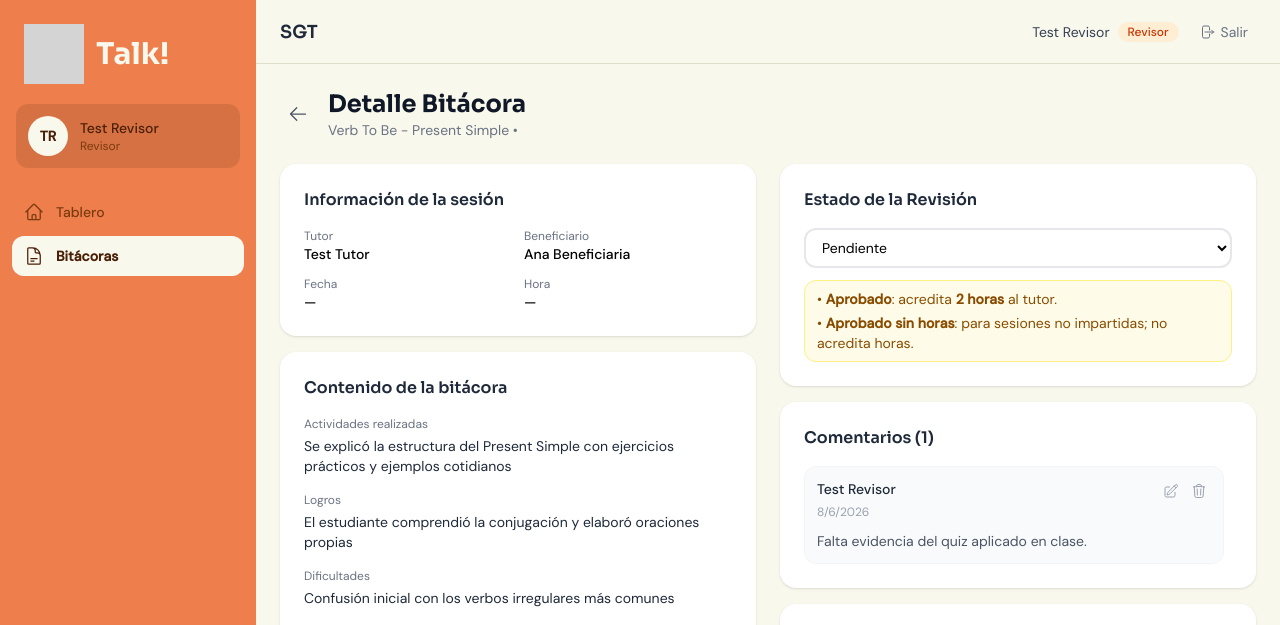
INT-02 | Bitácora rechazada — coordinador no ve horas + tutor ve comentario › Revisor rechaza bitácora y deja comentario obligatorio de motivo
Expected: the heading "Detalle Bitácora" is shown, [328,88,526,120]
Select "No aprobada" in the dropdown: (1018, 248) [804,228,1232,268]
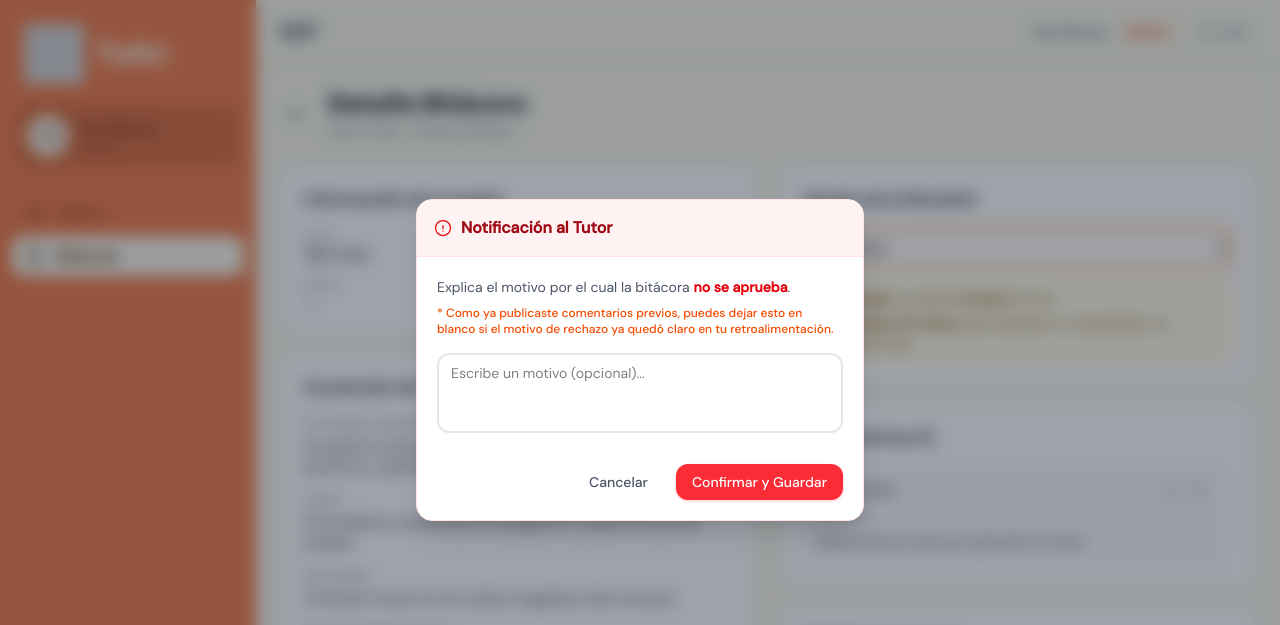
Expected: the heading "Notificación al Tutor" is shown, [461,216,612,240]
In the text box with placeholder "Escribe un motivo (opcional)...": (640, 393) [437,353,843,433], type "Falta evidencia del quiz aplicado en clase."
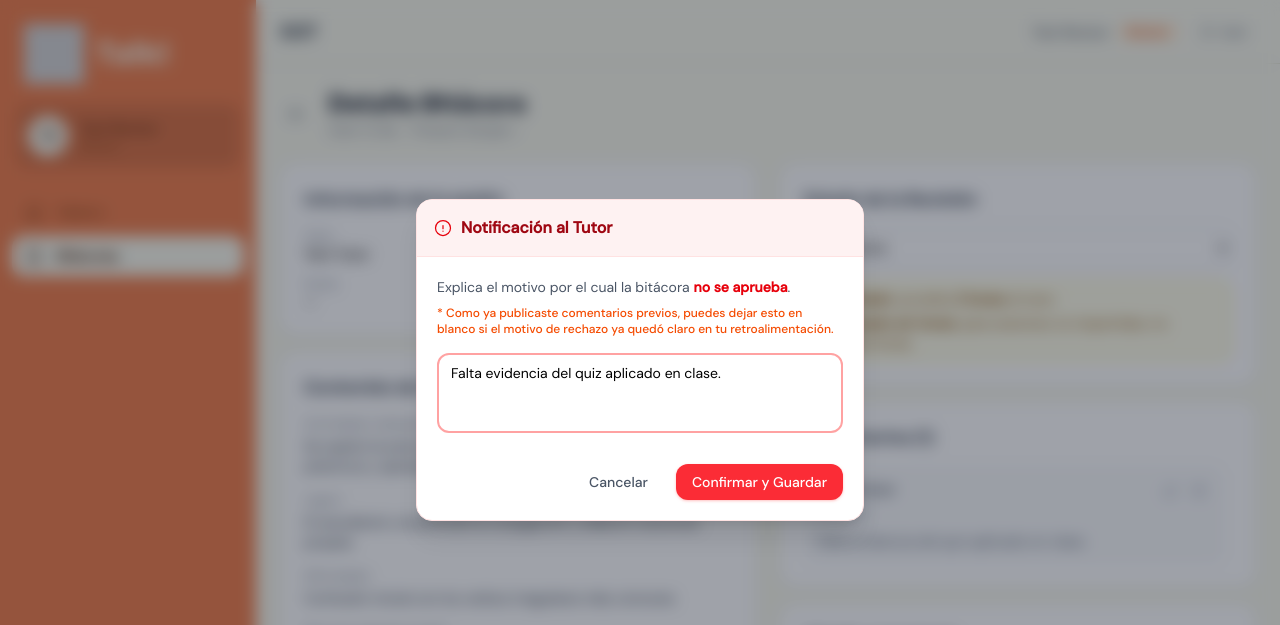
Click the button "Confirmar y Guardar": (760, 482) [676,464,843,500]
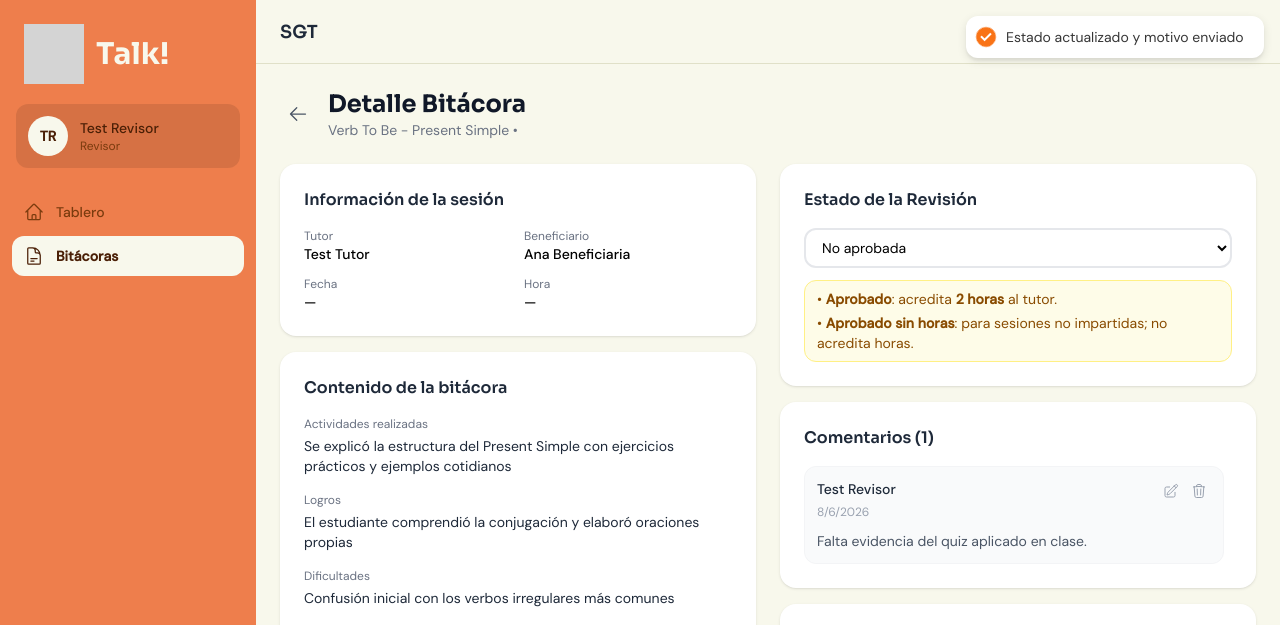
Expected: the text "Falta evidencia del quiz aplicado en clase." is shown, [817,532,1087,550]
Expected: the text "Estado actualizado y motivo enviado" is shown, [1006,28,1244,46]
